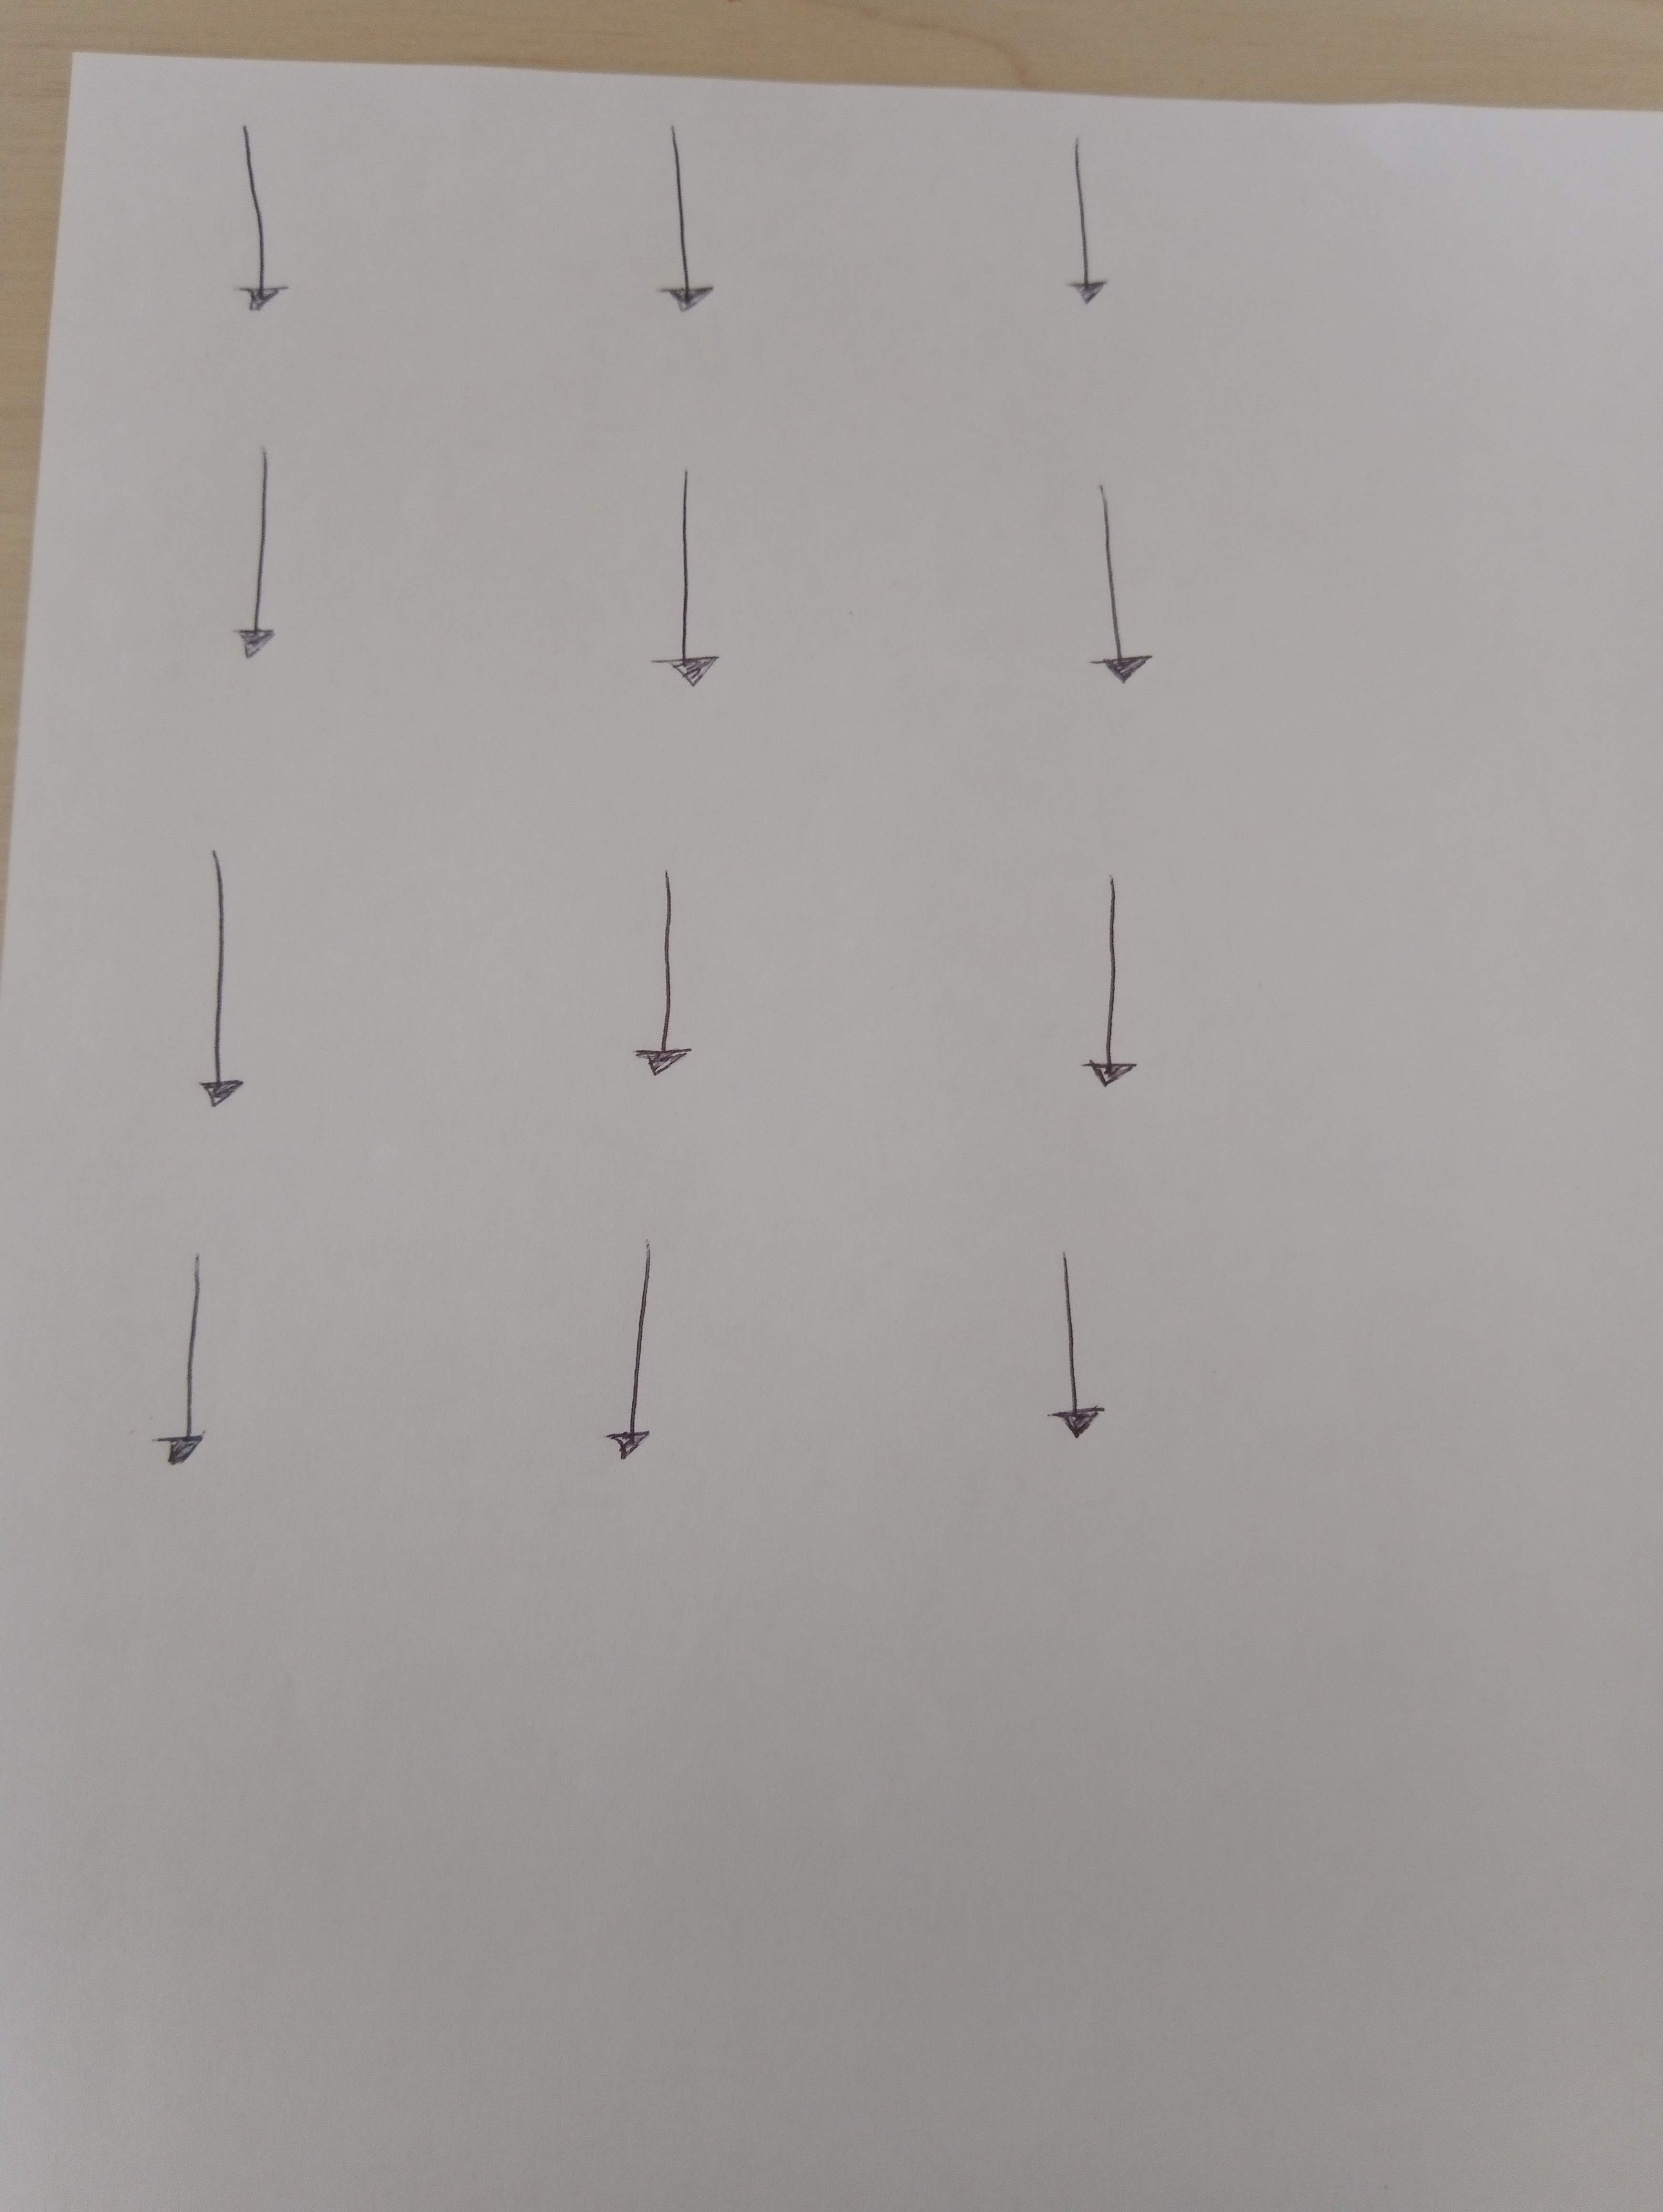arrow_line_down: (175, 835, 288, 1131), (1062, 449, 1188, 705), (625, 131, 755, 328), (145, 1248, 238, 1480), (1036, 134, 1151, 318), (1032, 1234, 1118, 1458), (648, 468, 732, 688), (641, 868, 721, 1095), (208, 134, 304, 318), (601, 1241, 678, 1465), (218, 457, 292, 669), (1085, 868, 1151, 1098)
